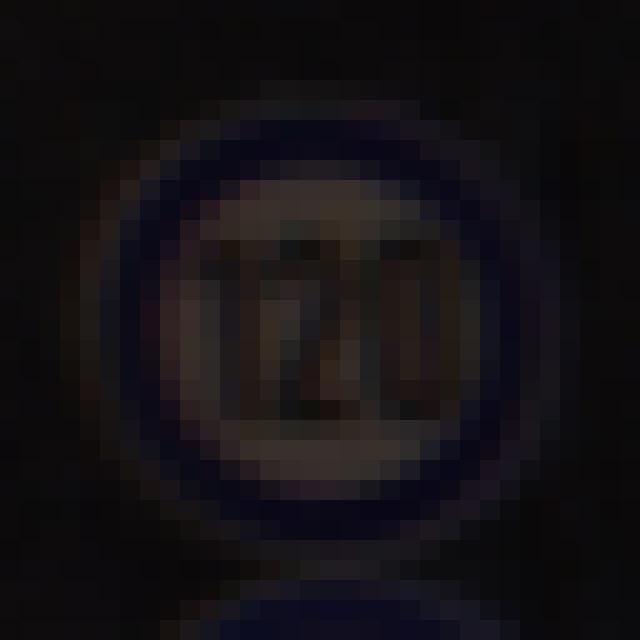SPEED LIMIT 120: (96, 127, 538, 536)
